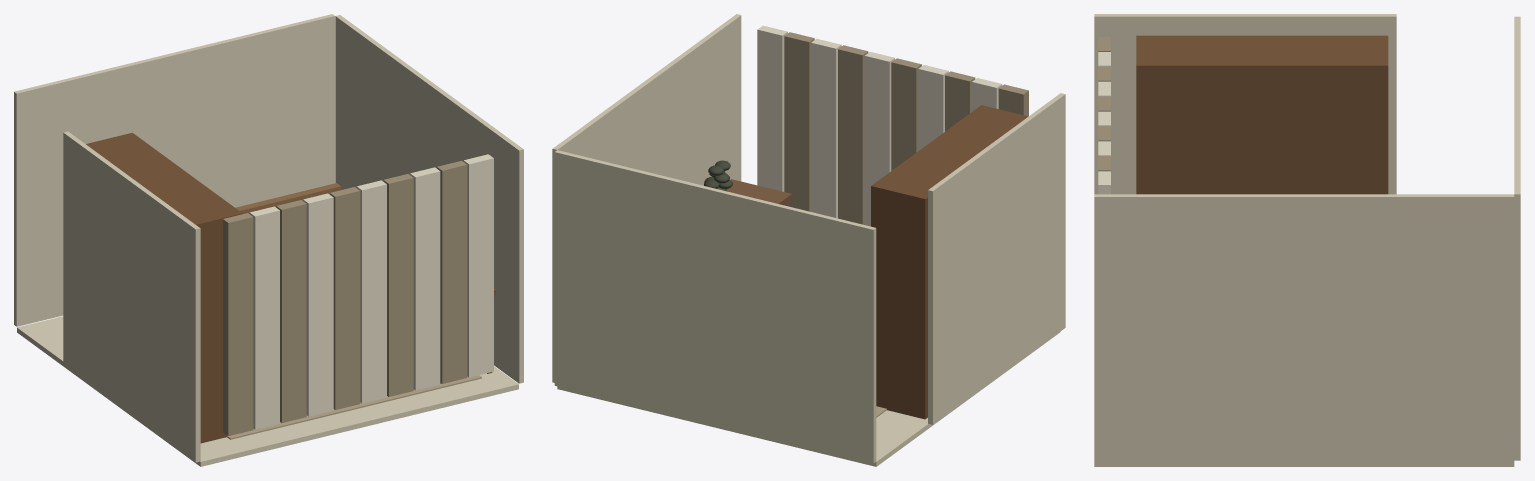
File: room-proxy.glb
3 renders of one model, left to right at view 1: azimuth 30°, elevation 25°; view 2: azimuth 150°, elevation 25°; view 3: azimuth 270°, elevation 25°, orthographic. The views are drawn at different scales.
Visible parts, largest first — view 1: proxy-back-wall, proxy-left-wall-after-entry, proxy-right-wall, REF-L04-R01-wardrobe-part-1, proxy-floor, REF-L04-R01-curtain-part-1, REF-L04-R01-curtain-part-8, REF-L04-R01-curtain-part-5, REF-L04-R01-curtain-part-4, REF-L04-R01-curtain-part-9, REF-L04-R01-curtain-part-3, REF-L04-R01-curtain-part-6 (+5 smaller); view 2: proxy-back-wall, proxy-left-wall-after-entry, proxy-right-wall, REF-L04-R01-wardrobe-part-1, REF-L04-R01-curtain-part-8, REF-L04-R01-curtain-part-7, REF-L04-R01-curtain-part-9, REF-L04-R01-curtain-part-10, REF-L04-R01-curtain-part-6, proxy-floor, REF-L04-R01-curtain-part-5, REF-L04-R01-curtain-part-4 (+4 smaller); view 3: proxy-right-wall, REF-L04-R01-wardrobe-part-1, proxy-left-wall-after-entry, proxy-back-wall, proxy-floor.
Part boxes in pixels (x1,y1,x2,y2): proxy-back-wall: (14, 14, 334, 326); proxy-left-wall-after-entry: (63, 131, 200, 462); proxy-right-wall: (335, 15, 523, 383); REF-L04-R01-wardrobe-part-1: (86, 132, 242, 443); proxy-floor: (17, 316, 518, 466); REF-L04-R01-curtain-part-1: (223, 213, 253, 436); REF-L04-R01-curtain-part-8: (410, 167, 440, 390); REF-L04-R01-curtain-part-5: (330, 187, 360, 409); REF-L04-R01-curtain-part-4: (303, 193, 333, 416); REF-L04-R01-curtain-part-9: (437, 161, 467, 383); REF-L04-R01-curtain-part-3: (276, 200, 306, 422); REF-L04-R01-curtain-part-6: (356, 180, 386, 403); proxy-back-wall: (554, 150, 876, 463); proxy-left-wall-after-entry: (928, 93, 1065, 424); proxy-right-wall: (552, 14, 741, 382); REF-L04-R01-wardrobe-part-1: (871, 105, 1028, 419); REF-L04-R01-curtain-part-8: (811, 38, 841, 218); REF-L04-R01-curtain-part-7: (838, 45, 868, 224); REF-L04-R01-curtain-part-9: (784, 32, 814, 211); REF-L04-R01-curtain-part-10: (757, 25, 787, 191); REF-L04-R01-curtain-part-6: (864, 51, 894, 226); proxy-floor: (557, 331, 1060, 466); REF-L04-R01-curtain-part-5: (891, 58, 921, 170); REF-L04-R01-curtain-part-4: (918, 65, 948, 150); proxy-right-wall: (1094, 194, 1514, 463); REF-L04-R01-wardrobe-part-1: (1136, 35, 1388, 194); proxy-left-wall-after-entry: (1094, 14, 1396, 194); proxy-back-wall: (1514, 16, 1520, 460); proxy-floor: (1094, 463, 1514, 466).
Bounding box in the file's own units: 1.03 × 0.7165 × 1.02.
